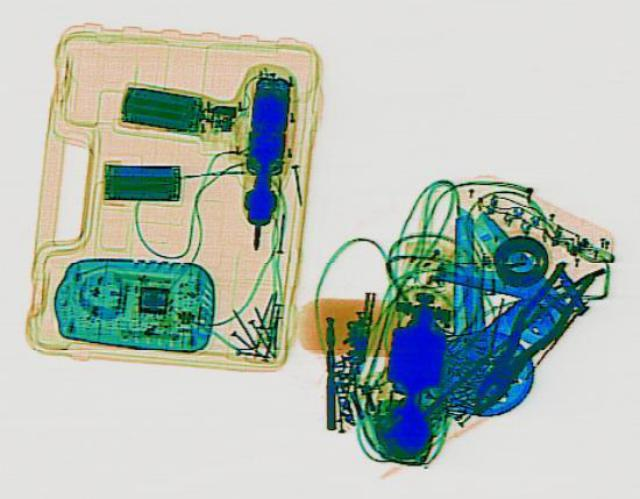Pliers: (452, 256, 600, 419)
